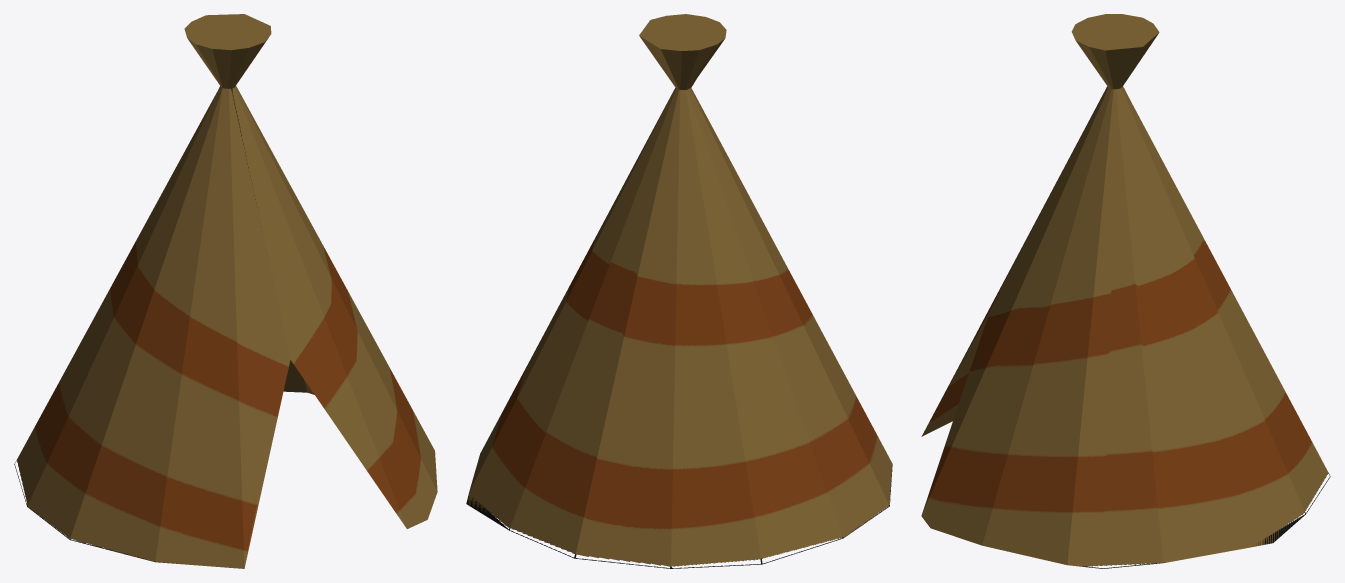
Rendered from wigwam.fbx.
3 views of the same model, side by side, from view 1: azimuth 30°, elevation 25°; view 2: azimuth 150°, elevation 25°; view 3: azimuth 270°, elevation 25° (orthographic).
Visible parts, largest first — view 1: Cylinder; view 2: Cylinder; view 3: Cylinder.
Boxes of the visible parts, box(x1,y1,x2,y2) form: Cylinder: box(14, 14, 437, 568); Cylinder: box(466, 14, 892, 568); Cylinder: box(921, 14, 1330, 568).
Bounding box in the file's own units: 54.37 × 62.17 × 51.92.
